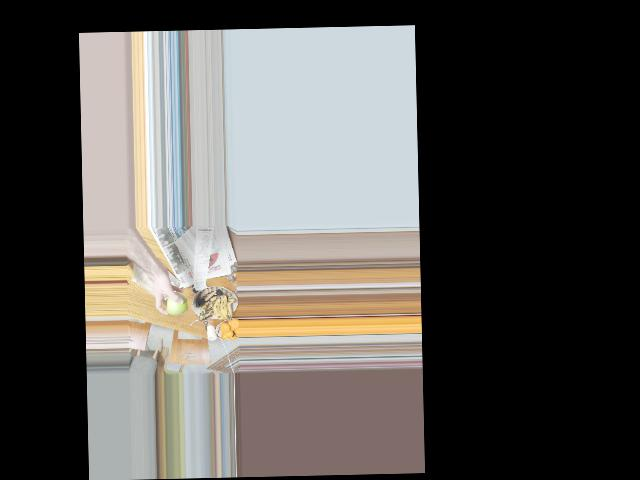apple: (166, 290, 188, 315)
